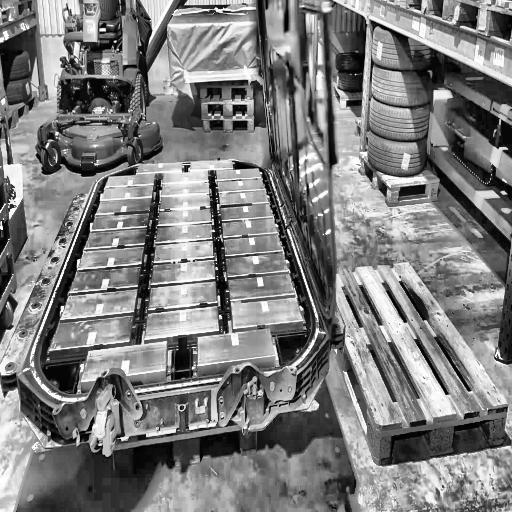b_casing: (0, 0, 347, 418)
battery_module: (78, 339, 171, 387), (194, 328, 279, 376), (47, 314, 139, 357), (143, 303, 223, 346), (229, 296, 306, 335), (57, 288, 142, 320), (145, 278, 220, 314), (68, 265, 146, 297), (149, 258, 218, 288), (225, 273, 296, 302), (225, 251, 292, 280), (76, 245, 149, 269), (83, 227, 151, 252), (152, 220, 217, 246), (222, 233, 284, 259), (151, 240, 218, 264), (220, 216, 280, 240), (90, 210, 154, 231), (217, 204, 274, 223), (154, 208, 214, 225), (157, 181, 213, 199), (104, 170, 157, 189), (156, 194, 214, 211), (96, 197, 155, 213), (158, 169, 212, 185), (215, 178, 268, 194), (217, 191, 270, 207), (101, 186, 156, 200), (214, 168, 262, 184), (137, 161, 186, 173), (188, 159, 235, 171)
